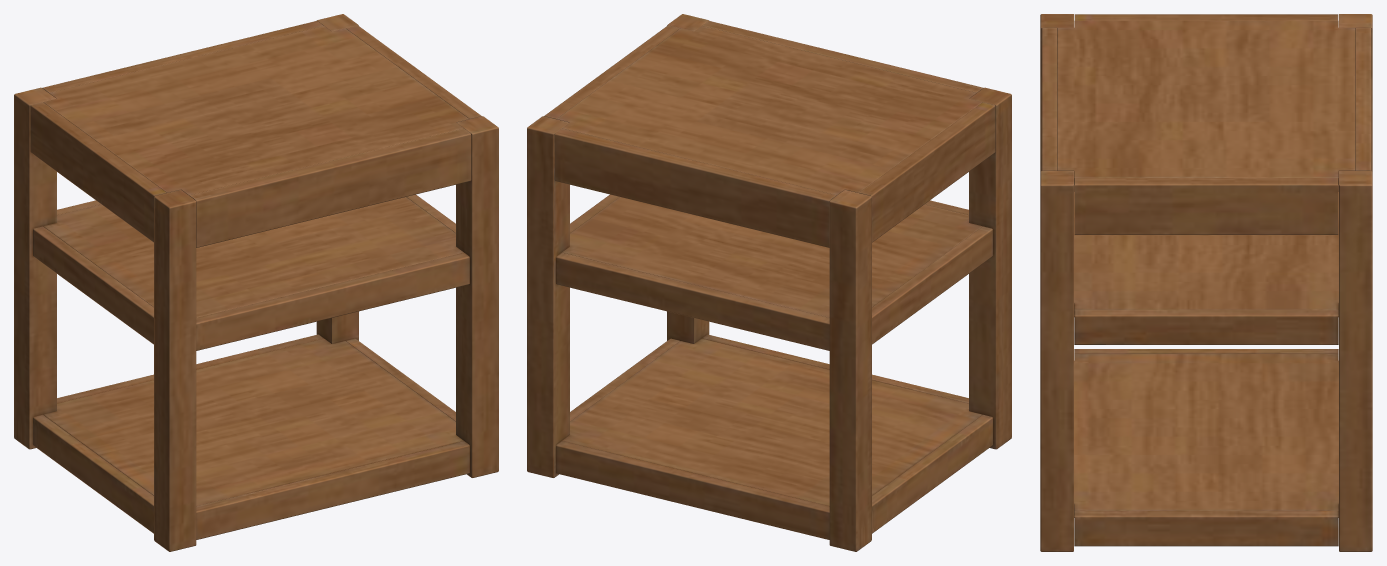
The model's file is side_table.glb.
3 renders of one model, left to right at view 1: azimuth 30°, elevation 25°; view 2: azimuth 150°, elevation 25°; view 3: azimuth 270°, elevation 25°, orthographic. The views are drawn at different scales.
Visible parts, largest first — view 1: side_table; view 2: side_table; view 3: side_table.
Boxes of the visible parts, x1,y1,x2,y2 form: side_table: (14,14,498,551); side_table: (527,14,1011,551); side_table: (1040,14,1372,551).
Bounding box in the file's own units: 0.55 × 0.5507 × 0.45.
1 material, 1 textured.
